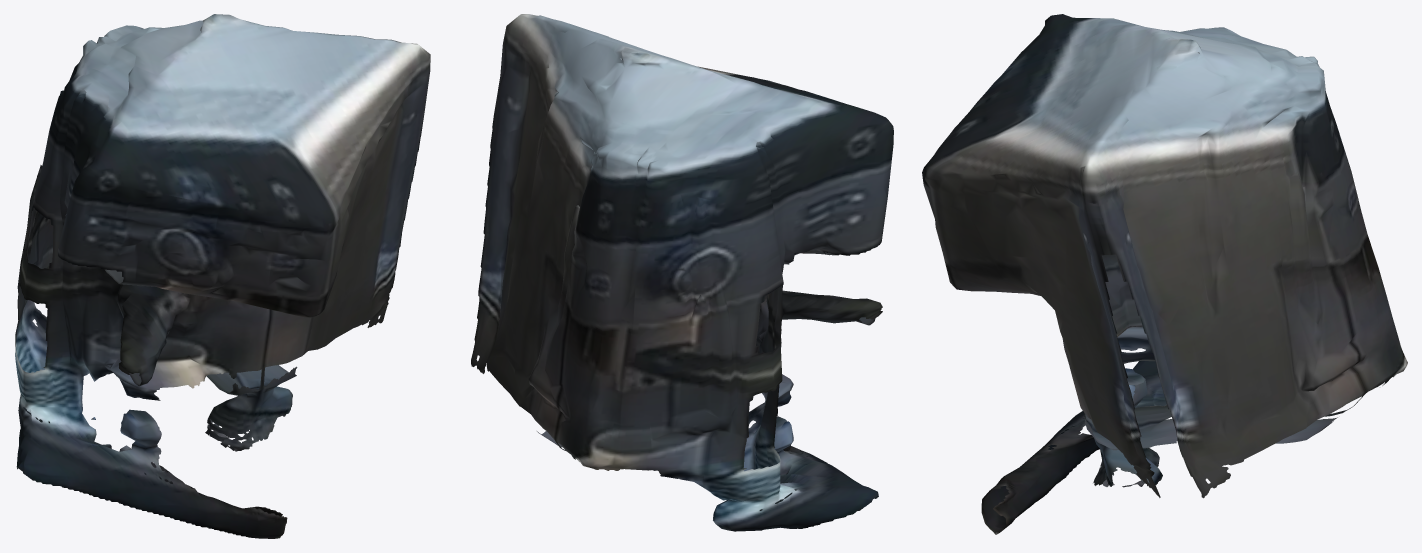
The model's file is coffeemachine.glb.
3 views of the same model, side by side, from view 1: azimuth 30°, elevation 25°; view 2: azimuth 150°, elevation 25°; view 3: azimuth 270°, elevation 25° (orthographic). The views are drawn at different scales.
Parts seen in each view (by area): view 1: geometry_0; view 2: geometry_0; view 3: geometry_0.
Part boxes in pixels (left/top/right/bottom): geometry_0: left=15, top=14, right=430, bottom=538; geometry_0: left=471, top=14, right=893, bottom=531; geometry_0: left=922, top=14, right=1407, bottom=534.
Size of the model in its own units: 0.8691 by 0.9715 by 0.8443.
Materials: 1 (1 with a texture image).
